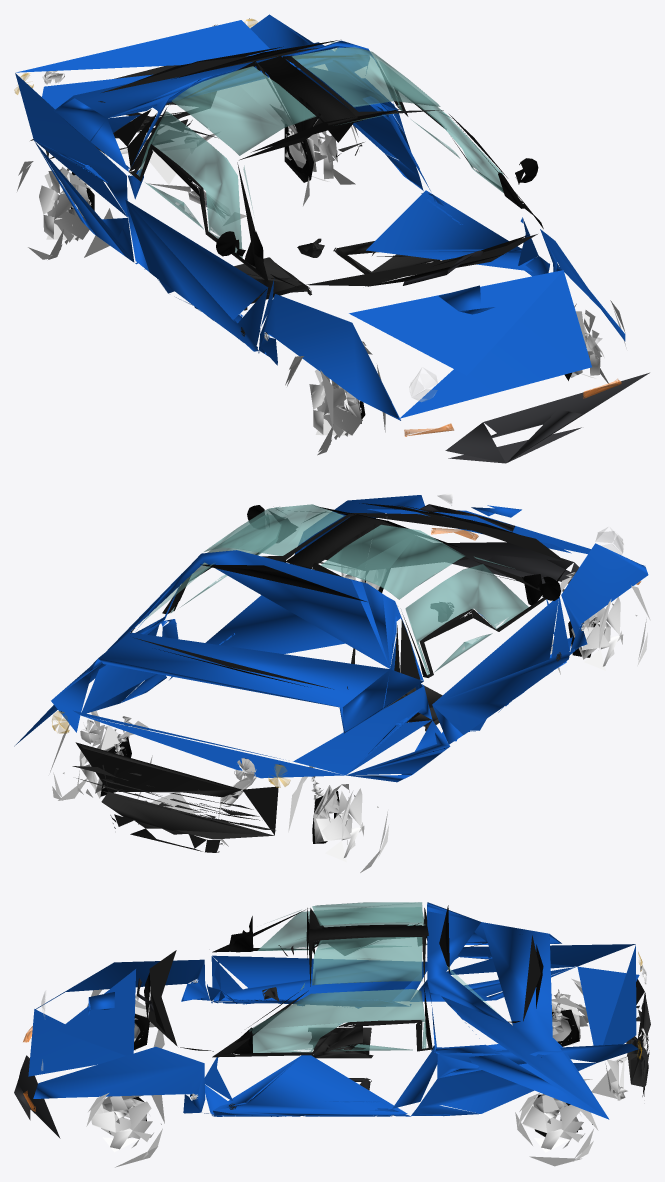
The picture shows the model from 3 angles, top to bottom: view 1: azimuth 30°, elevation 25°; view 2: azimuth 150°, elevation 25°; view 3: azimuth 270°, elevation 25°; orthographic projection. The views are drawn at different scales.
Visible parts, largest first — view 1: lod; view 2: lod; view 3: lod.
Part boxes in pixels (<box>): lod: <box>14,14,649,463</box>; lod: <box>14,492,650,872</box>; lod: <box>14,902,650,1167</box>.
Size of the model in its own units: 1.78 by 1.14 by 3.59.
